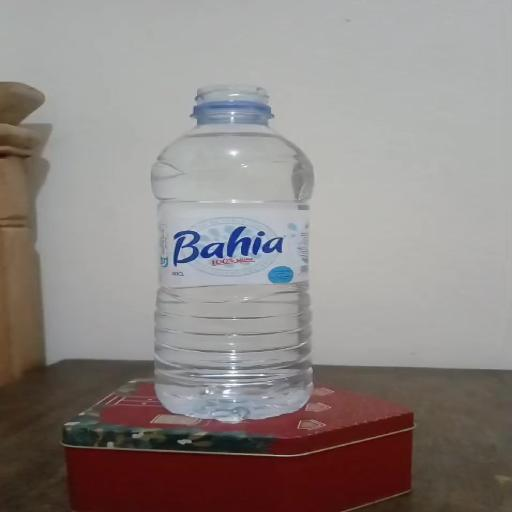bouteille non conformite: (107, 57, 350, 427), (172, 81, 298, 134)
